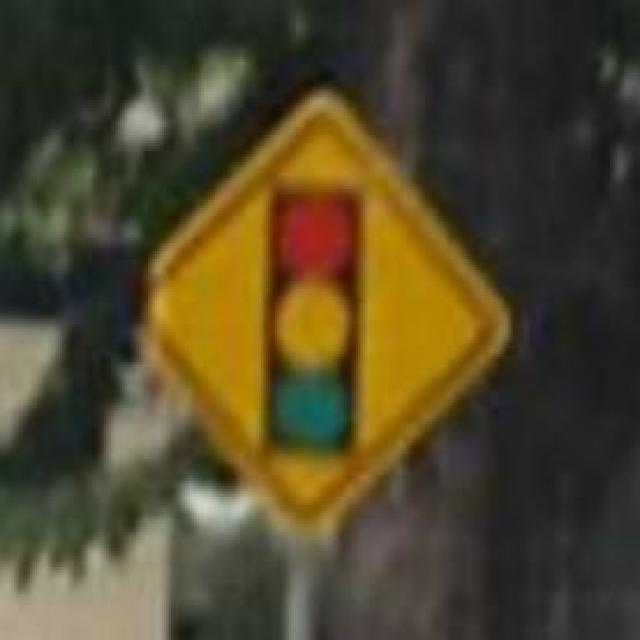traffic sign: (157, 94, 503, 532)
